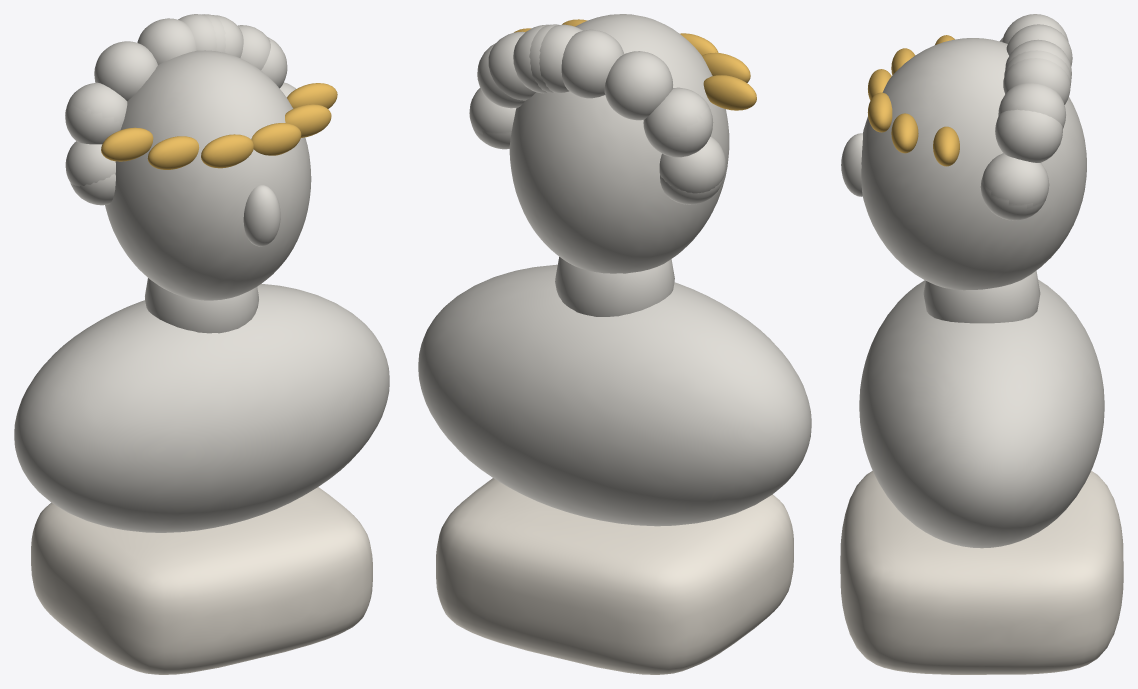
File: deco_busto.glb
3 renders of one model, left to right at view 1: azimuth 30°, elevation 25°; view 2: azimuth 150°, elevation 25°; view 3: azimuth 270°, elevation 25°, orthographic. The views are drawn at different scales.
Visible parts, largest first — view 1: hombros.001, pedestal busto.001, cabeza busto.001, cuello busto.001, rizo 10.001, nariz busto.001, rizo 2.001, rizo 13.001, rizo 1.001, rizo 0.001, laurel busto 2.001, laurel busto 0.001 (+9 smaller); view 2: hombros.001, pedestal busto.001, cabeza busto.001, cuello busto.001, rizo 10.001, rizo 2.001, rizo 13.001, rizo 0.001, rizo 3.001, rizo 12.001, laurel busto 0.001, rizo 1.001 (+6 smaller); view 3: hombros.001, pedestal busto.001, cabeza busto.001, cuello busto.001, rizo 11.001, rizo 4.001, rizo 5.001, rizo 3.001, nariz busto.001, rizo 2.001, rizo 7.001, laurel busto 4.001 (+6 smaller).
Boxes of the visible parts, left/top/right/bottom form: hombros.001: left=14, top=283, right=389, bottom=532; pedestal busto.001: left=31, top=487, right=372, bottom=674; cabeza busto.001: left=105, top=50, right=311, bottom=300; cuello busto.001: left=145, top=278, right=258, bottom=333; rizo 10.001: left=94, top=41, right=157, bottom=101; nariz busto.001: left=243, top=185, right=280, bottom=246; rizo 2.001: left=137, top=18, right=196, bottom=64; rizo 13.001: left=65, top=141, right=115, bottom=186; rizo 1.001: left=65, top=103, right=121, bottom=144; rizo 0.001: left=67, top=82, right=127, bottom=126; laurel busto 2.001: left=201, top=134, right=253, bottom=168; laurel busto 0.001: left=101, top=127, right=153, bottom=161; hombros.001: left=418, top=264, right=811, bottom=526; pedestal busto.001: left=436, top=478, right=793, bottom=674; cabeza busto.001: left=509, top=14, right=729, bottom=273; cuello busto.001: left=555, top=257, right=674, bottom=316; rizo 10.001: left=604, top=51, right=672, bottom=120; rizo 2.001: left=561, top=29, right=624, bottom=98; rizo 13.001: left=659, top=136, right=725, bottom=193; rizo 0.001: left=643, top=87, right=708, bottom=145; rizo 3.001: left=488, top=31, right=535, bottom=100; rizo 12.001: left=539, top=24, right=582, bottom=92; laurel busto 0.001: left=703, top=75, right=756, bottom=110; rizo 1.001: left=649, top=102, right=713, bottom=157; hombros.001: left=859, top=279, right=1104, bottom=548; pedestal busto.001: left=840, top=470, right=1123, bottom=674; cabeza busto.001: left=861, top=38, right=1086, bottom=290; cuello busto.001: left=923, top=270, right=1040, bottom=323; rizo 11.001: left=995, top=109, right=1062, bottom=162; rizo 4.001: left=982, top=153, right=1049, bottom=205; rizo 5.001: left=1003, top=58, right=1070, bottom=104; rizo 3.001: left=998, top=83, right=1065, bottom=128; nariz busto.001: left=841, top=133, right=862, bottom=196; rizo 2.001: left=1006, top=24, right=1072, bottom=66; rizo 7.001: left=980, top=180, right=1045, bottom=220; laurel busto 4.001: left=891, top=113, right=918, bottom=153.
Size of the model in its own units: 0.2375 by 0.374 by 0.1599.
